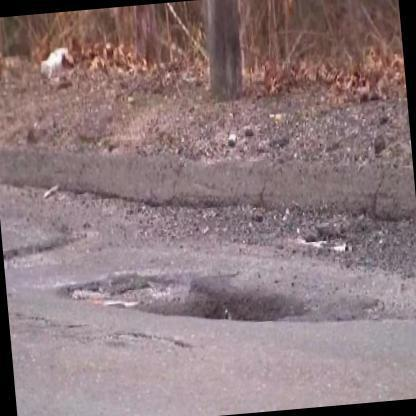pothole: (66, 278, 400, 324), (5, 230, 106, 267)
